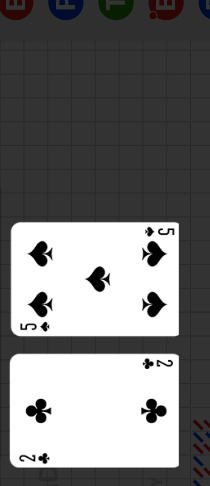2C: (140, 357, 174, 371)
5S: (143, 226, 176, 238)
